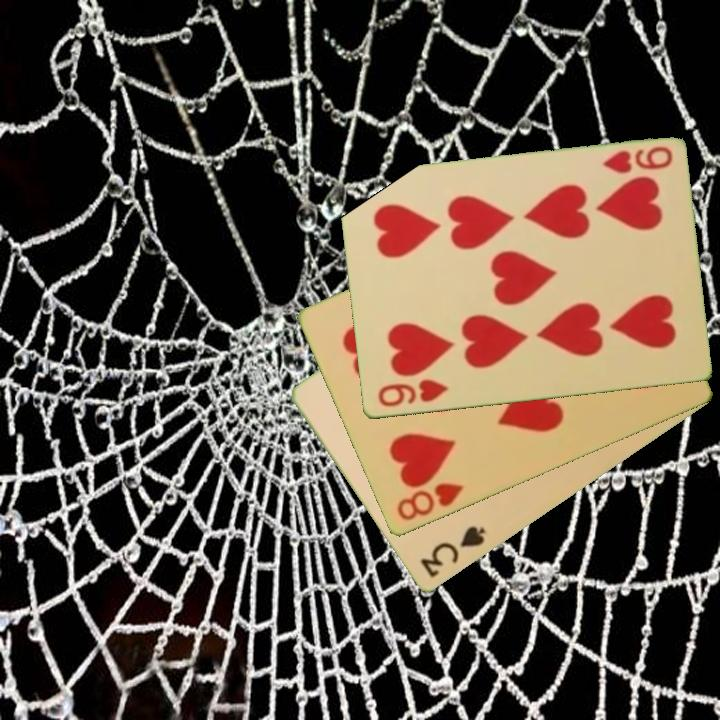3s: (416, 522, 488, 582)
8h: (393, 479, 467, 524)
9h: (374, 376, 451, 411), (599, 143, 675, 177)
